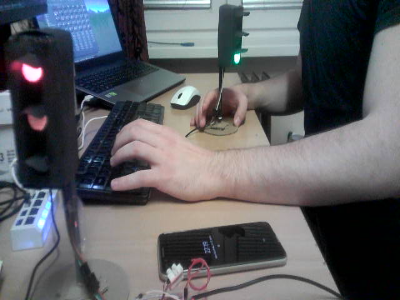trafficlight_green: (230, 8, 246, 67)
trafficlight_red: (13, 39, 68, 186)
